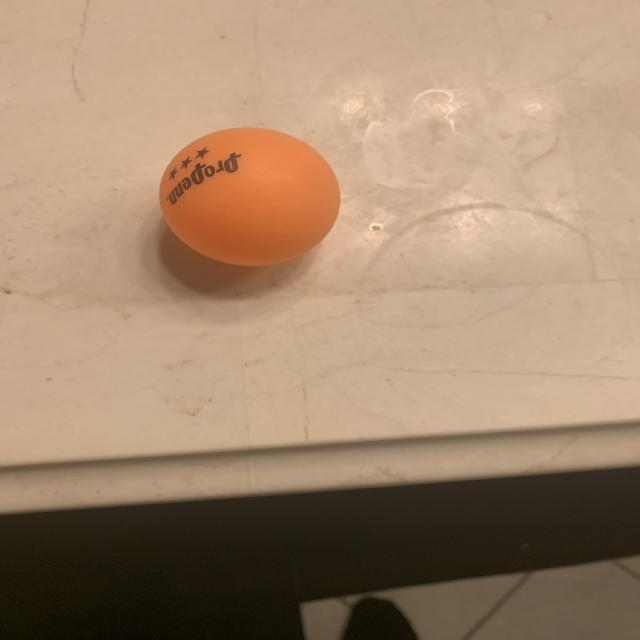ping-pong-ball: (147, 114, 346, 277)
